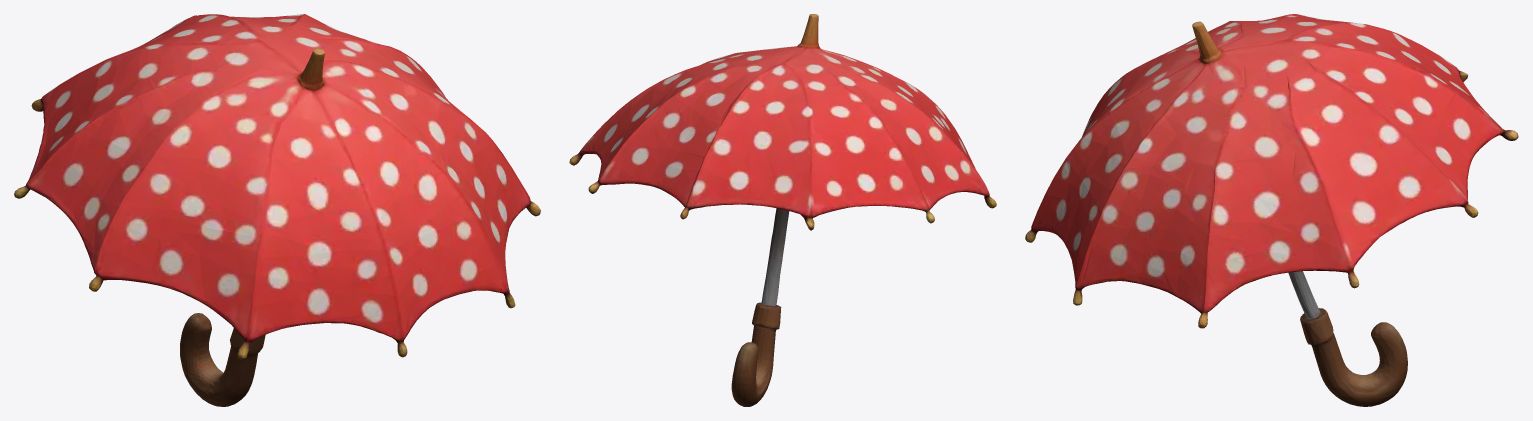
Rendered from red_polka_dot_umbrella.glb.
The picture shows the model from 3 angles, left to right: view 1: azimuth 30°, elevation 25°; view 2: azimuth 150°, elevation 25°; view 3: azimuth 270°, elevation 25°; orthographic projection. The views are drawn at different scales.
Parts seen in each view (by area): view 1: geometry_0; view 2: geometry_0; view 3: geometry_0.
Boxes of the visible parts, x1=… form: geometry_0: x1=14, y1=14, x2=540, y2=406; geometry_0: x1=569, y1=14, x2=996, y2=406; geometry_0: x1=1025, y1=14, x2=1518, y2=406.
Bounding box in the file's own units: 0.7877 × 0.6946 × 0.8.
1 material, 1 textured.
